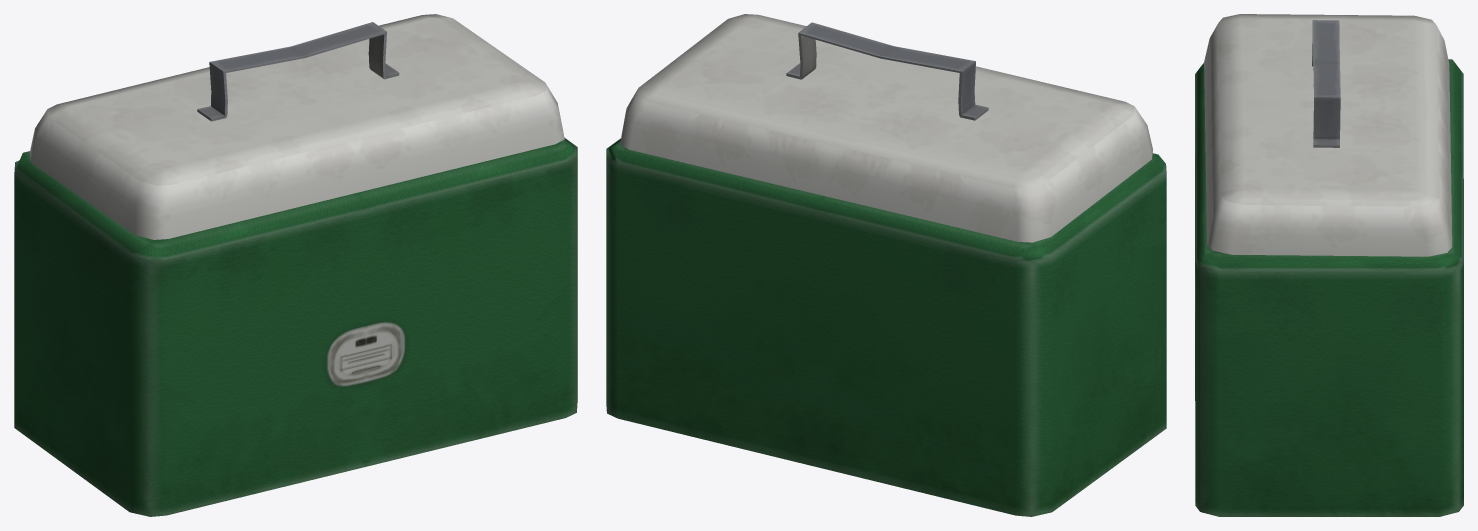
File: Esky_Scaled.fbx
3 views of the same model, side by side, from view 1: azimuth 30°, elevation 25°; view 2: azimuth 150°, elevation 25°; view 3: azimuth 270°, elevation 25° (orthographic). The views are drawn at different scales.
Parts seen in each view (by area): view 1: Esky_Outer1, Esky_Lid1; view 2: Esky_Outer1, Esky_Lid1; view 3: Esky_Outer1, Esky_Lid1.
Part boxes in pixels (x1=…): Esky_Outer1: x1=14, y1=137, x2=577, y2=516; Esky_Lid1: x1=29, y1=14, x2=564, y2=239; Esky_Outer1: x1=606, y1=138, x2=1166, y2=516; Esky_Lid1: x1=620, y1=14, x2=1152, y2=242; Esky_Outer1: x1=1195, y1=59, x2=1463, y2=516; Esky_Lid1: x1=1204, y1=14, x2=1452, y2=256.
Size of the model in its own units: 45.63 by 36 by 24.76.
